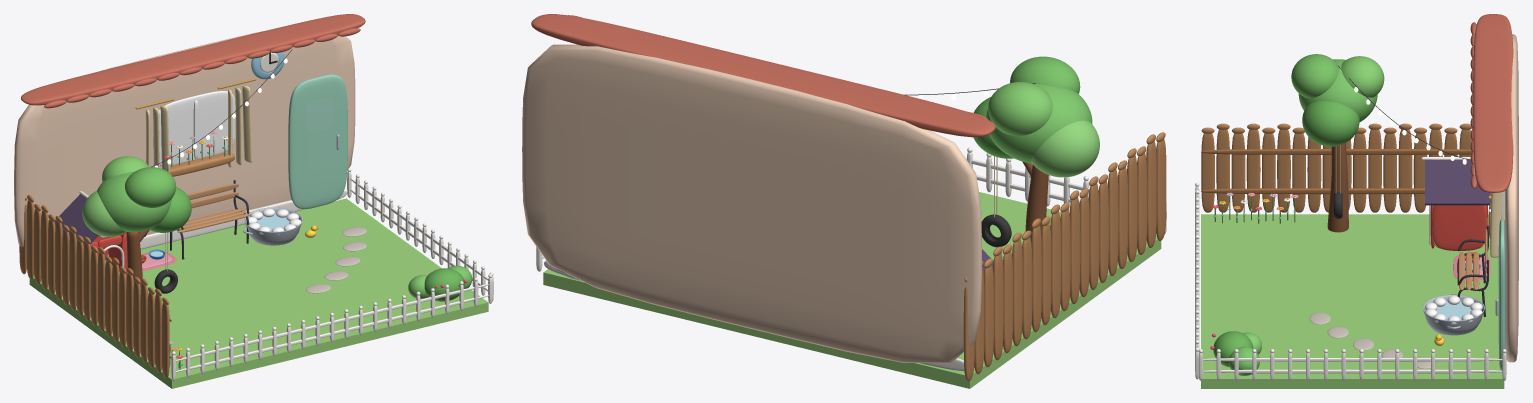
Rendered from casa_patio.glb.
3 renders of one model, left to right at view 1: azimuth 30°, elevation 25°; view 2: azimuth 150°, elevation 25°; view 3: azimuth 270°, elevation 25°, orthographic. The views are drawn at different scales.
Visible parts, largest first — view 1: piso, pared fondo, puerta, muro alero, marco, copa árbol, copa árbol.003, zócalo fondo, copa árbol.002, muro riel.001, muro riel, copa árbol.001 (+30 smaller); view 2: pared fondo, muro alero, piso, copa árbol.004, copa árbol.002, copa árbol, copa árbol.003, muro tabla.007, tronco.001, muro tabla.009, muro tabla.005, muro tabla.017 (+19 smaller); view 3: piso, muro alero, pared fondo, techo casita.001, pared casita.001, copa árbol.001, copa árbol.003, muro travesaño.001, copa árbol, tronco.001, copa árbol.004, muro travesaño (+22 smaller).
Boxes of the visible parts, x1=… form: piso: x1=29, y1=198, x2=488, y2=388; pared fondo: x1=14, y1=30, x2=355, y2=247; puerta: x1=288, y1=74, x2=347, y2=209; muro alero: x1=21, y1=14, x2=365, y2=105; marco: x1=153, y1=91, x2=235, y2=166; copa árbol: x1=97, y1=171, x2=171, y2=232; copa árbol.003: x1=125, y1=167, x2=176, y2=207; zócalo fondo: x1=107, y1=190, x2=347, y2=255; copa árbol.002: x1=82, y1=191, x2=126, y2=236; muro riel.001: x1=176, y1=284, x2=488, y2=361; muro riel: x1=176, y1=295, x2=488, y2=372; copa árbol.001: x1=149, y1=187, x2=191, y2=232; pared fondo: x1=522, y1=44, x2=981, y2=362; muro alero: x1=531, y1=14, x2=995, y2=137; piso: x1=543, y1=192, x2=1161, y2=388; copa árbol.004: x1=988, y1=82, x2=1052, y2=135; copa árbol.002: x1=1031, y1=120, x2=1099, y2=177; copa árbol: x1=986, y1=84, x2=1092, y2=163; copa árbol.003: x1=1010, y1=56, x2=1080, y2=93; muro tabla.007: x1=1088, y1=183, x2=1099, y2=289; tronco.001: x1=1025, y1=165, x2=1048, y2=240; muro tabla.009: x1=1069, y1=197, x2=1080, y2=303; muro tabla.005: x1=1108, y1=169, x2=1118, y2=276; muro tabla.017: x1=993, y1=253, x2=1003, y2=360; piso: x1=1201, y1=214, x2=1504, y2=388; muro alero: x1=1473, y1=14, x2=1513, y2=192; pared fondo: x1=1504, y1=34, x2=1518, y2=362; techo casita.001: x1=1425, y1=159, x2=1490, y2=205; pared casita.001: x1=1432, y1=205, x2=1486, y2=250; copa árbol.001: x1=1302, y1=101, x2=1359, y2=146; copa árbol.003: x1=1291, y1=54, x2=1338, y2=98; muro travesaño.001: x1=1201, y1=149, x2=1472, y2=154; copa árbol: x1=1298, y1=59, x2=1377, y2=121; tronco.001: x1=1327, y1=143, x2=1348, y2=232; copa árbol.004: x1=1341, y1=56, x2=1384, y2=97; muro travesaño: x1=1201, y1=188, x2=1424, y2=194.
Size of the model in its own units: 5.92 by 3.17 by 4.48.
